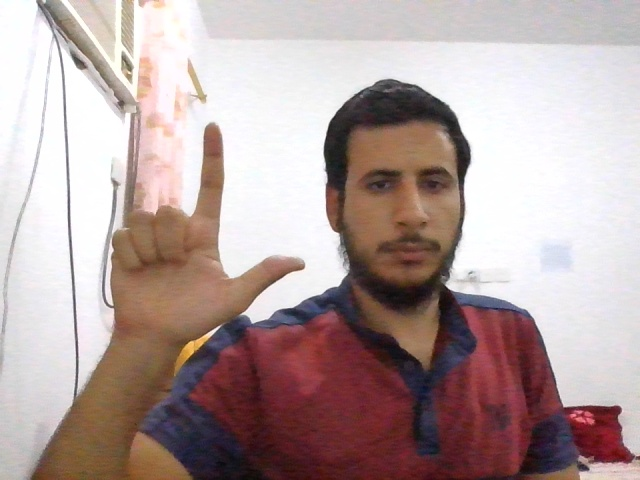Two: (110, 123, 308, 340)
